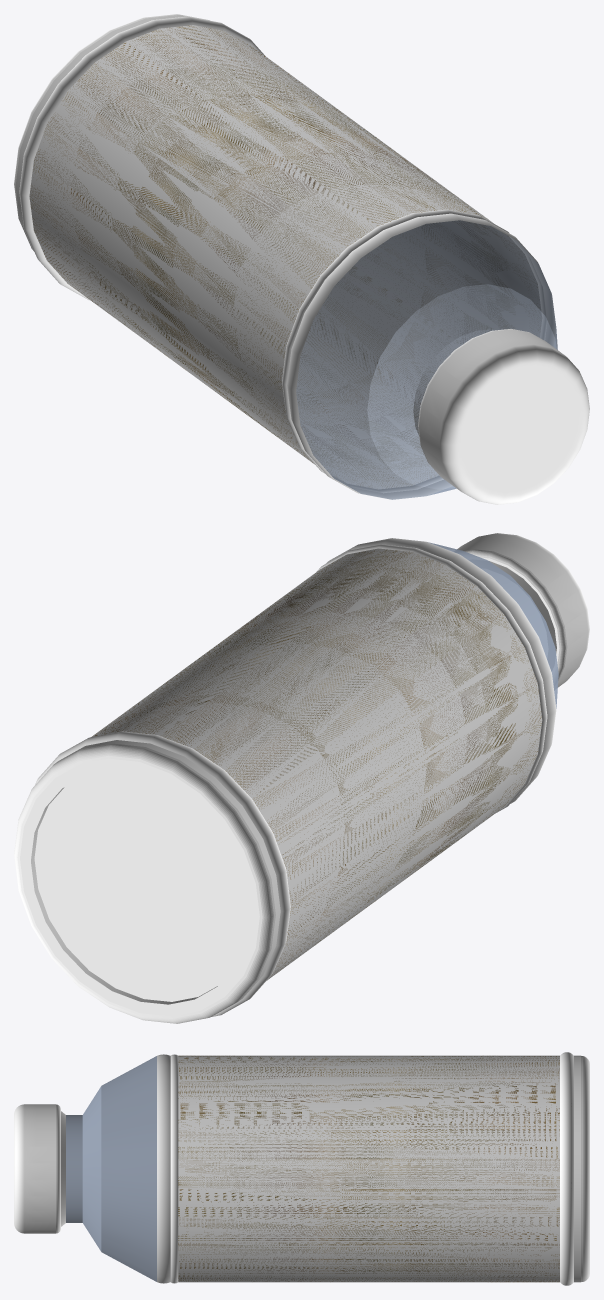
File: model_scale.obj
3 renders of one model, top to bottom at view 1: azimuth 30°, elevation 25°; view 2: azimuth 150°, elevation 25°; view 3: azimuth 270°, elevation 25°, orthographic. The views are drawn at different scales.
Visible parts, largest first — view 1: mesh1_mesh1-geometry; view 2: mesh1_mesh1-geometry; view 3: mesh1_mesh1-geometry.
Part boxes in pixels (<box>): mesh1_mesh1-geometry: <box>14,14,589,504</box>; mesh1_mesh1-geometry: <box>14,533,589,1023</box>; mesh1_mesh1-geometry: <box>14,1052,589,1285</box>.
Size of the model in its own units: 0.0752 by 0.0752 by 0.1847.
